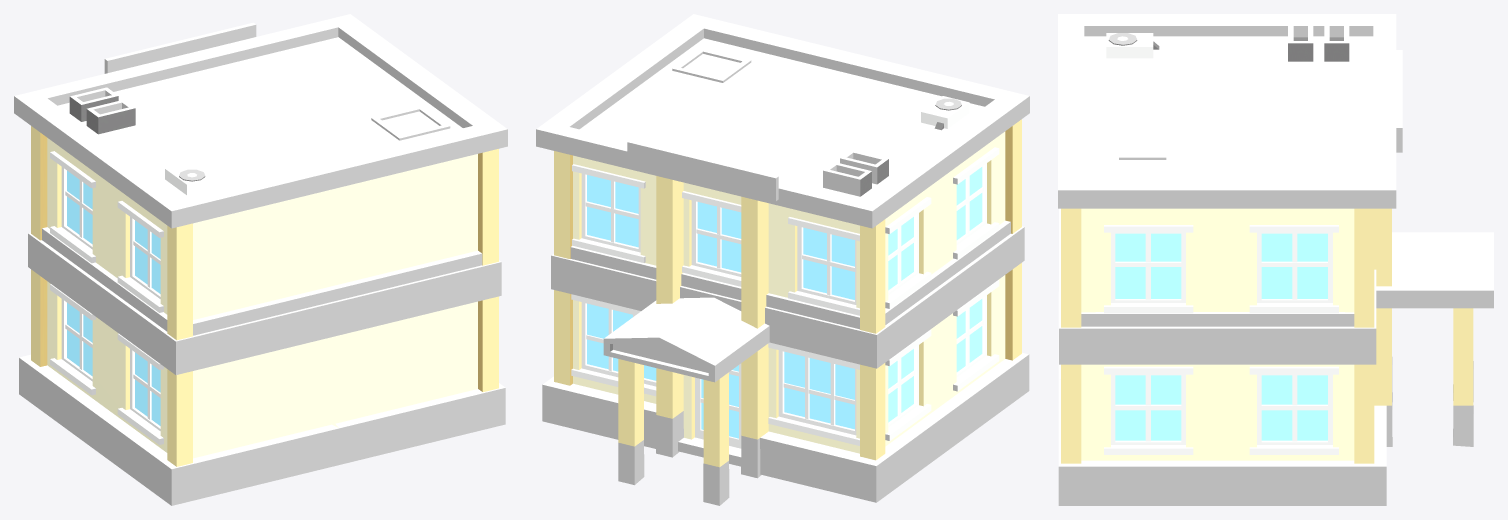
The model's file is bank.008.glb.
The picture shows the model from 3 angles, left to right: view 1: azimuth 30°, elevation 25°; view 2: azimuth 150°, elevation 25°; view 3: azimuth 270°, elevation 25°; orthographic projection. The views are drawn at different scales.
Parts seen in each view (by area): view 1: bank.008(Clone); view 2: bank.008(Clone); view 3: bank.008(Clone).
Boxes of the visible parts, left/top/right/bottom form: bank.008(Clone): left=14, top=14, right=507, bottom=505; bank.008(Clone): left=536, top=14, right=1029, bottom=505; bank.008(Clone): left=1058, top=14, right=1493, bottom=505.
Bounding box in the file's own units: 7.15 × 6.27 × 7.47.
1 material, 1 textured.
